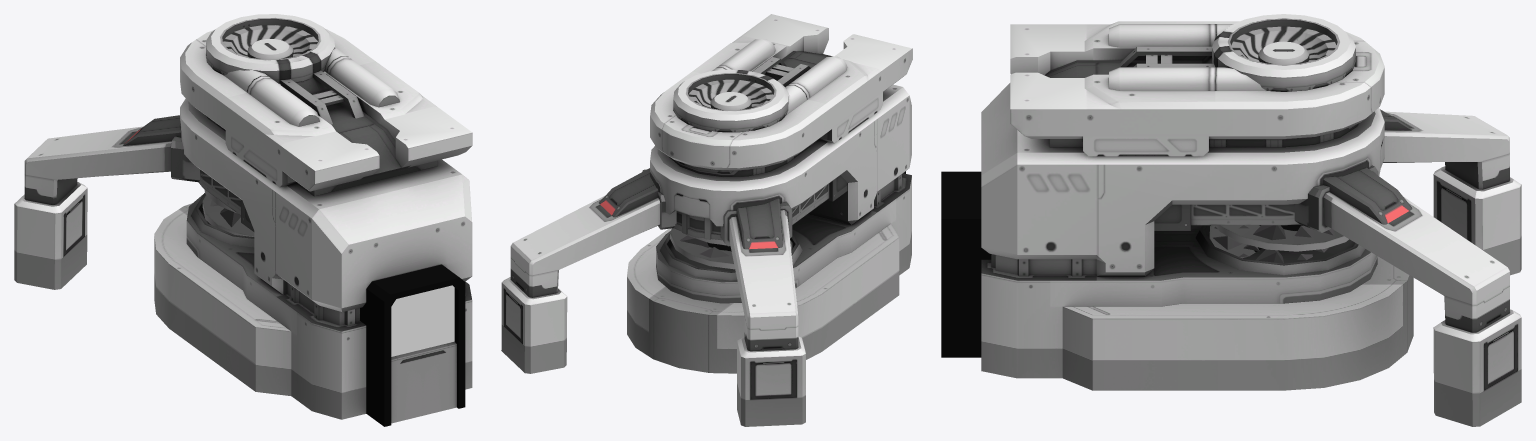
Rendered from mining-drill.glb.
3 renders of one model, left to right at view 1: azimuth 30°, elevation 25°; view 2: azimuth 150°, elevation 25°; view 3: azimuth 270°, elevation 25°, orthographic. The views are drawn at different scales.
Visible parts, largest first — view 1: mining-drill, mining-drill-c, mining-drill-a; view 2: mining-drill, mining-drill-c, mining-drill-a; view 3: mining-drill, mining-drill-a, mining-drill-c, mining-drill-b.
Boxes of the visible parts, left/top/right/bottom form: mining-drill: left=14, top=14, right=472, bottom=426; mining-drill-c: left=223, top=25, right=317, bottom=56; mining-drill-a: left=202, top=189, right=254, bottom=236; mining-drill: left=501, top=14, right=912, bottom=426; mining-drill-c: left=688, top=79, right=773, bottom=108; mining-drill-a: left=670, top=228, right=792, bottom=269; mining-drill: left=941, top=14, right=1521, bottom=426; mining-drill-a: left=1209, top=225, right=1348, bottom=258; mining-drill-c: left=1231, top=26, right=1336, bottom=61; mining-drill-b: left=1213, top=225, right=1334, bottom=263.
Size of the model in its own units: 5.99 by 4.5 by 8.06.
2 materials, 1 textured.
